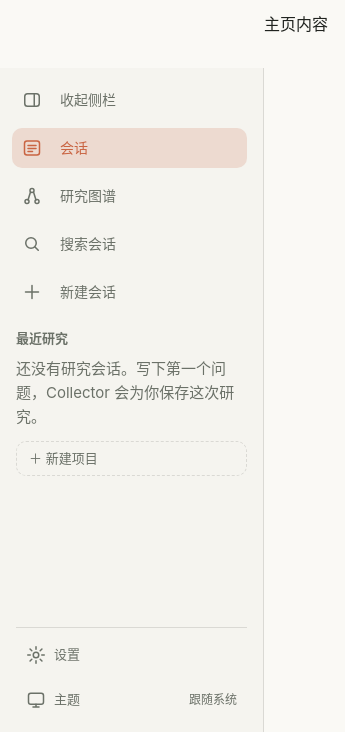
AppShell 宽屏（≥900px）固定侧栏 › 单层级收展：收起为干净图标 rail 无残留详情，再展开恢复完整侧栏
The image size is (345, 732).
Expected: the heading "最近研究" is shown, [16, 330, 68, 346]
Expected: the button "搜索会话" is shown, [12, 224, 247, 264]
收起：真实整体收起为 rail——详情（最近研究/手柄）消失，只剩图标 rail
Click the button "收起侧栏" at (130, 100), box [12, 80, 247, 120]
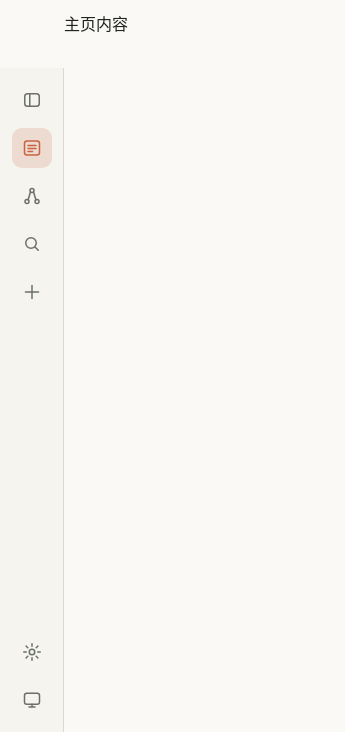
Expected: the heading "最近研究" is gone
Expected: the element "调整内容侧栏宽度" is gone
Expected: the button named "展开侧栏" is shown
再展开：恢复完整侧栏
Click the button named "展开侧栏" at (32, 100), box [12, 80, 52, 120]
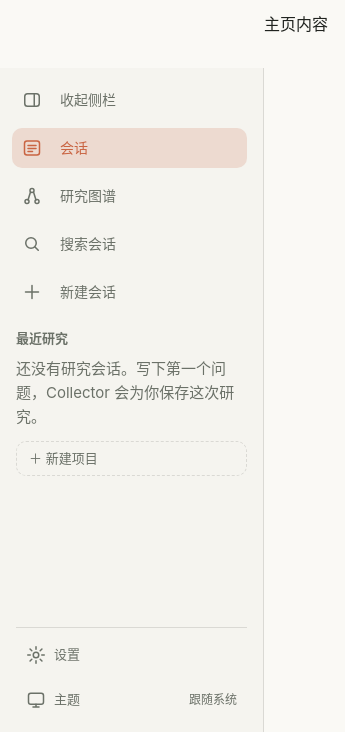
Expected: the heading "最近研究" is shown, [16, 330, 68, 346]
